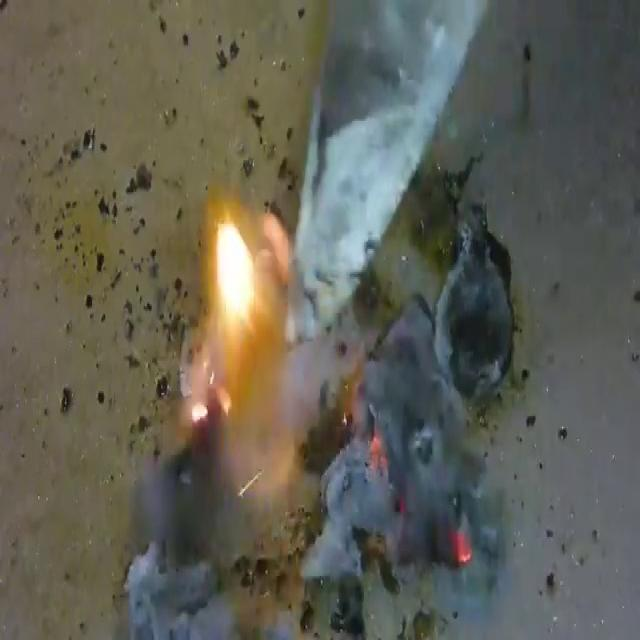Fire: (165, 166, 528, 626)
